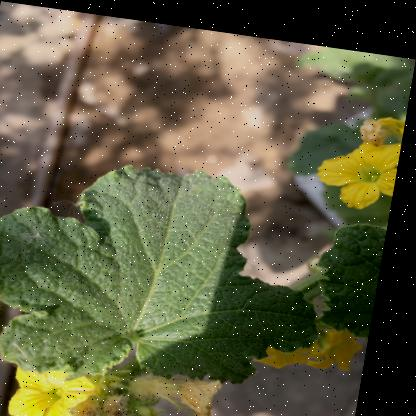Normal: (0, 138, 334, 393)
